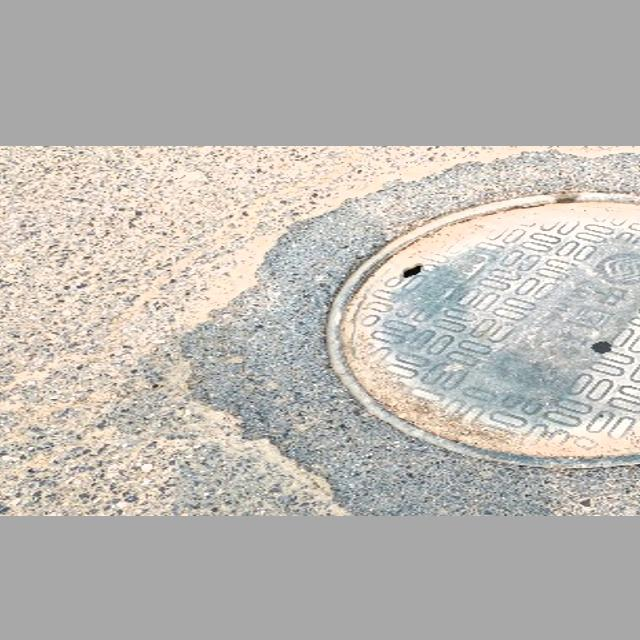good: (319, 197, 640, 476)
